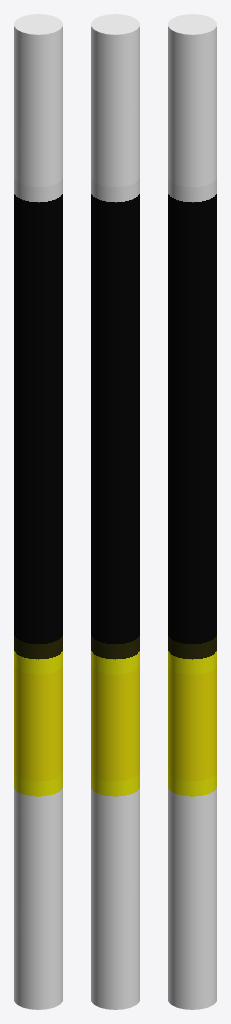
Rendered from wand.FBX.
3 views of the same model, side by side, from view 1: azimuth 90°, elevation 25°; view 2: azimuth 210°, elevation 25°; view 3: azimuth 270°, elevation 25° (orthographic).
Visible parts, largest first — view 1: Cylinder001; view 2: Cylinder001; view 3: Cylinder001.
Boxes of the visible parts, left/top/right/bottom form: Cylinder001: left=14, top=14, right=62, bottom=1009; Cylinder001: left=91, top=14, right=139, bottom=1009; Cylinder001: left=168, top=14, right=216, bottom=1009.
Size of the model in its own units: 4.99 by 109 by 4.91.
1 material, 1 textured.
